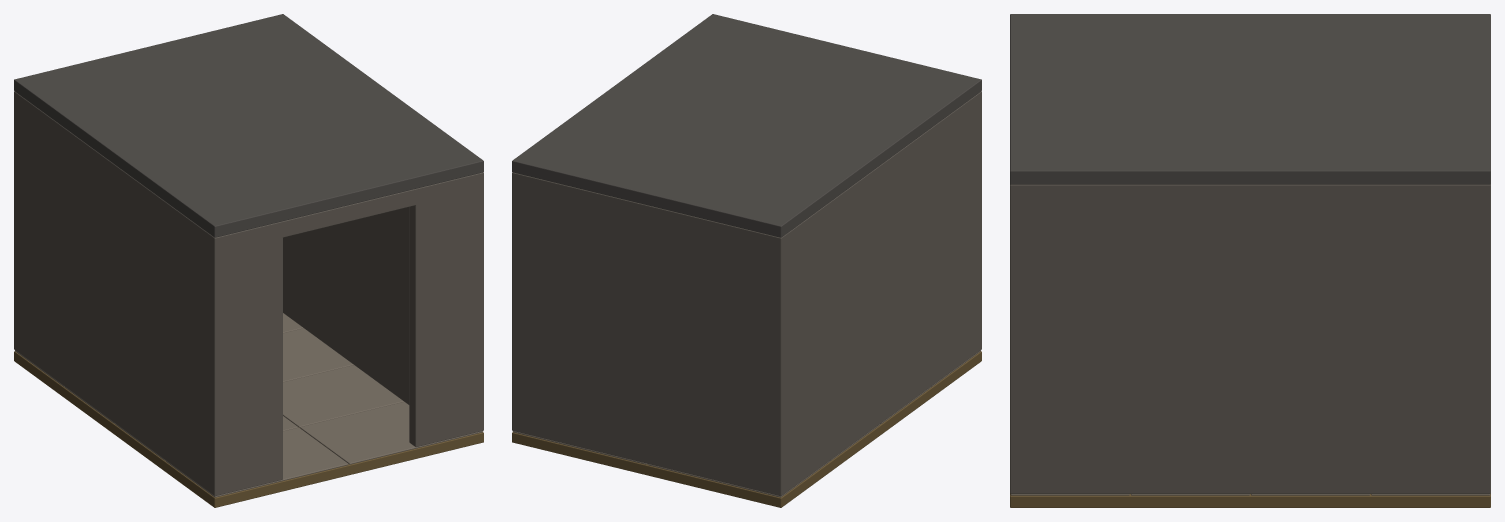
File: gen-cache.glb
3 views of the same model, side by side, from view 1: azimuth 30°, elevation 25°; view 2: azimuth 150°, elevation 25°; view 3: azimuth 270°, elevation 25° (orthographic). The views are drawn at different scales.
Visible parts, largest first — view 1: THE CACHE; view 2: THE CACHE; view 3: THE CACHE.
Part boxes in pixels (left/top/right/bottom): THE CACHE: left=14, top=14, right=483, bottom=507; THE CACHE: left=512, top=14, right=981, bottom=507; THE CACHE: left=1010, top=14, right=1490, bottom=507.
Size of the model in its own units: 2.4 by 2.4 by 3.1.
